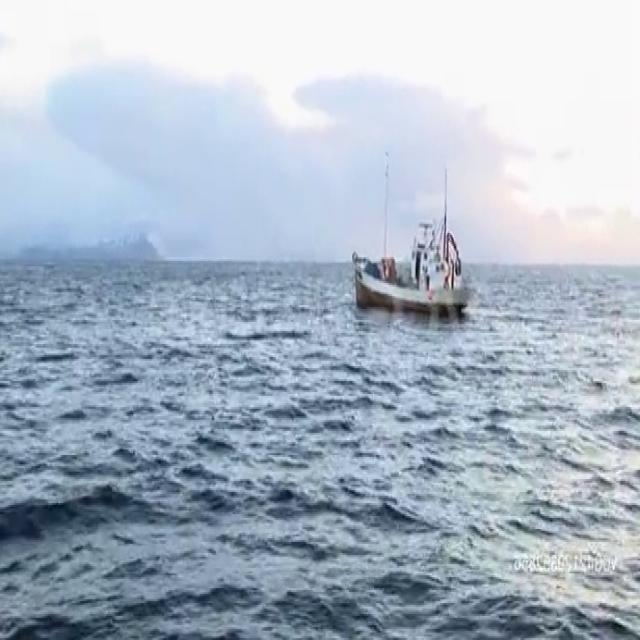fishing boat: (350, 169, 473, 311)
